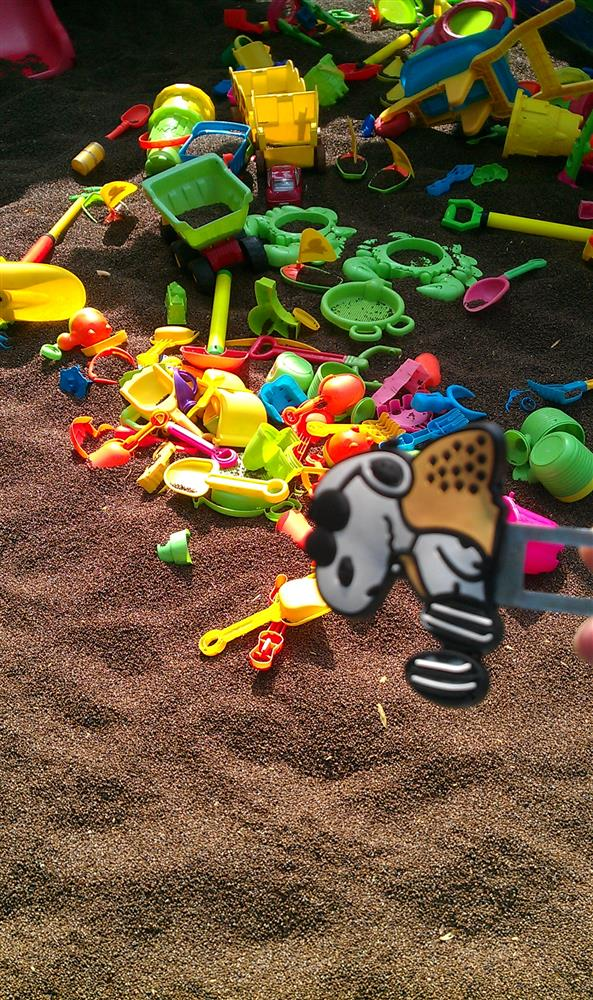DDog: (287, 402, 527, 729)
